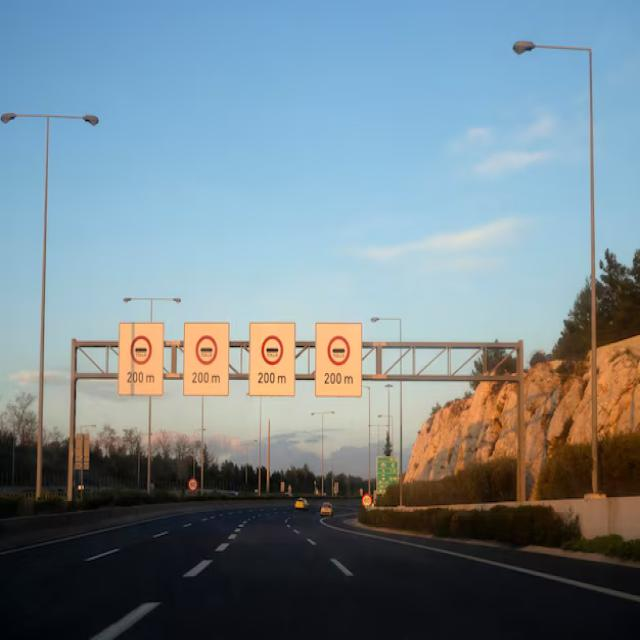Billboard_overhead_small: (105, 313, 170, 405), (310, 312, 370, 404), (178, 313, 232, 405), (249, 314, 298, 404)
Billboard_small: (370, 453, 402, 495), (74, 426, 93, 485), (186, 461, 202, 492)
Roadcorner: (376, 526, 639, 623), (2, 512, 146, 552)
Roadlane: (92, 500, 267, 639), (279, 495, 419, 633), (24, 517, 198, 594)
